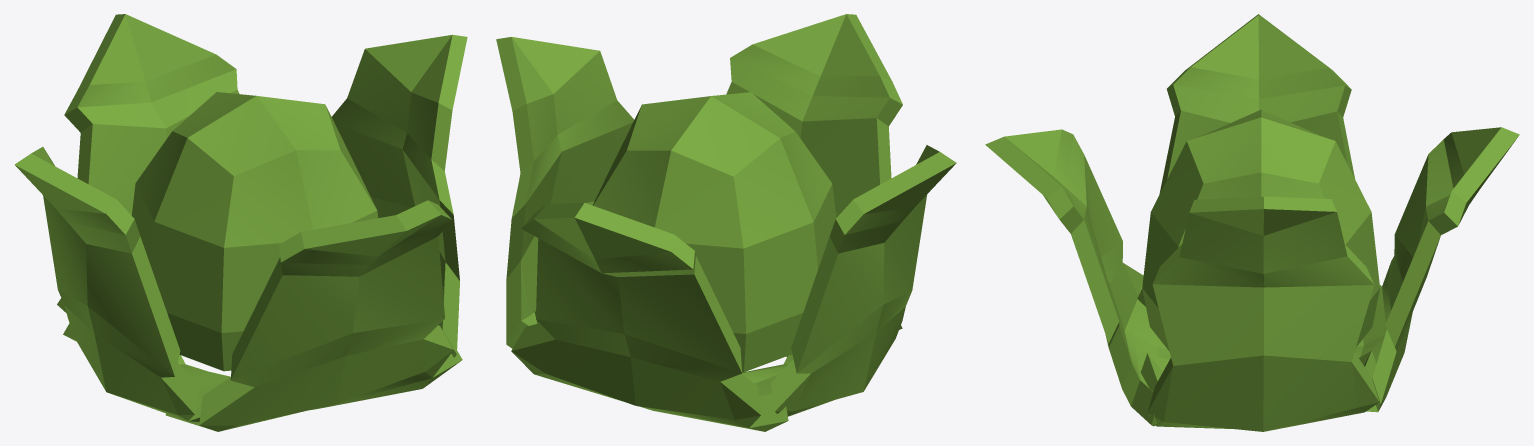
The model's file is prop_lettuce_3.glb.
The picture shows the model from 3 angles, left to right: view 1: azimuth 30°, elevation 25°; view 2: azimuth 150°, elevation 25°; view 3: azimuth 270°, elevation 25°; orthographic projection. The views are drawn at different scales.
Visible parts, largest first — view 1: interior; view 2: interior; view 3: interior.
Part boxes in pixels (x1=…): interior: x1=14, y1=14, x2=467, y2=431; interior: x1=496, y1=14, x2=956, y2=431; interior: x1=985, y1=14, x2=1519, y2=431.
Size of the model in its own units: 0.6232 by 0.3816 by 0.6764.
